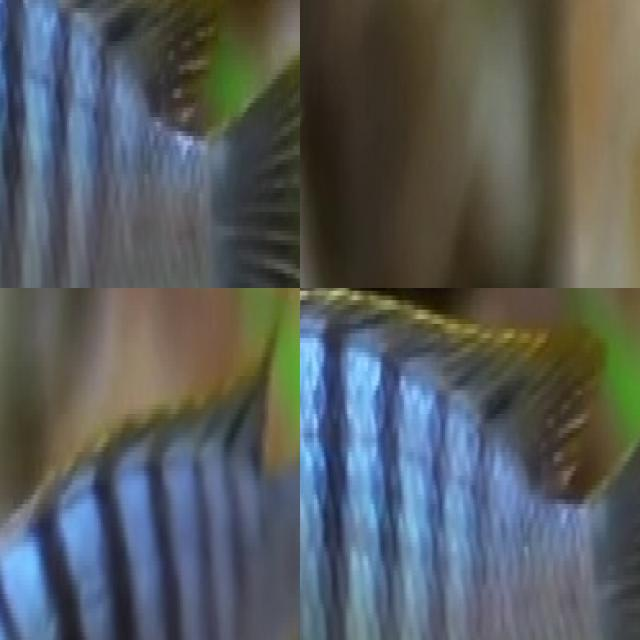fish: (300, 288, 640, 640), (0, 0, 300, 288)
